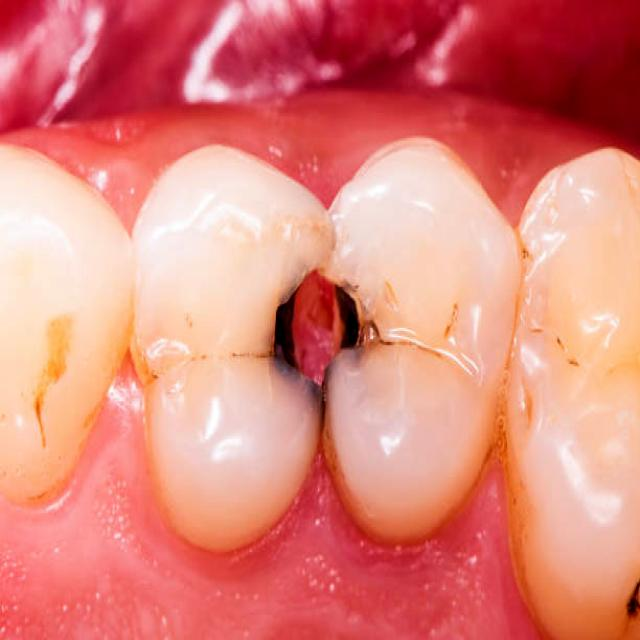cariess: (188, 212, 333, 436), (330, 281, 465, 367)
